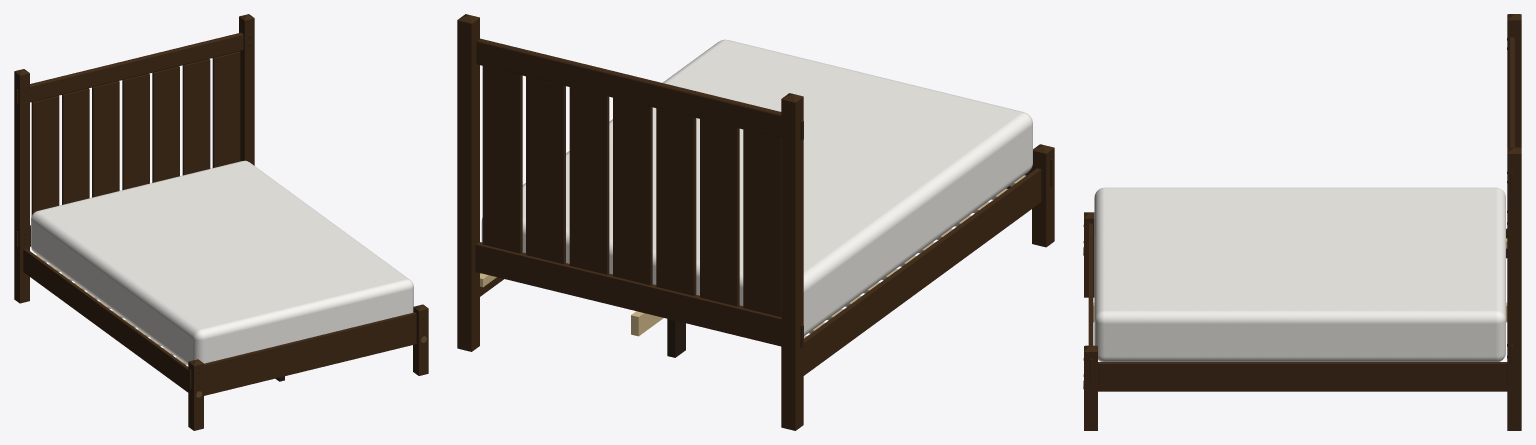
Rendered from bed-frame-bare.dae.
3 views of the same model, side by side, from view 1: azimuth 30°, elevation 25°; view 2: azimuth 150°, elevation 25°; view 3: azimuth 270°, elevation 25° (orthographic). The views are drawn at different scales.
Visible parts, largest first — view 1: Bed mattress, Bed foot rail, Bed side rail L, Bed headboard rail top, Bed headboard post L, Bed headboard slat 1, Bed headboard slat 6, Bed headboard slat 7, Bed headboard slat 5, Bed headboard slat 2, Bed headboard slat 4, Bed headboard slat 3 (+3 smaller); view 2: Bed mattress, Bed headboard rail bottom, Bed side rail L, Bed headboard rail top, Bed headboard post L, Bed headboard post R, Bed headboard slat 3, Bed headboard slat 7, Bed headboard slat 5, Bed headboard slat 4, Bed headboard slat 6, Bed headboard slat 2 (+3 smaller); view 3: Bed mattress, Bed side rail R, Bed headboard post R, Bed headboard post L, Bed foot leg R, Bed headboard rail top, Bed foot rail, Bed foot leg L.
Part boxes in pixels (x1,y1,x2,y2): Bed mattress: (31,160,413,364); Bed foot rail: (204,312,416,395); Bed side rail L: (23,248,188,392); Bed headboard rail top: (30,32,243,102); Bed headboard post L: (14,72,29,303); Bed headboard slat 1: (31,95,59,215); Bed headboard slat 6: (182,59,210,175); Bed headboard slat 7: (212,51,240,167); Bed headboard slat 5: (152,66,179,182); Bed headboard slat 2: (62,88,89,204); Bed headboard slat 4: (122,73,149,190); Bed headboard slat 3: (92,81,119,197); Bed mattress: (481,39,1032,335); Bed headboard rail bottom: (475,242,781,346); Bed side rail L: (803,168,1041,375); Bed headboard rail top: (476,38,781,138); Bed headboard post L: (781,97,803,430); Bed headboard post R: (457,18,479,351); Bed headboard slat 3: (656,108,696,295); Bed headboard slat 7: (482,66,522,253); Bed headboard slat 5: (569,87,609,274); Bed headboard slat 4: (613,97,652,285); Bed headboard slat 6: (526,76,565,263); Bed headboard slat 2: (700,119,739,306); Bed mattress: (1094,187,1505,361); Bed side rail R: (1098,362,1507,391); Bed headboard post R: (1507,153,1521,430); Bed headboard post L: (1507,20,1521,147); Bed foot leg R: (1084,352,1097,430); Bed headboard rail top: (1508,37,1514,147); Bed foot rail: (1088,223,1093,345); Bed foot leg L: (1084,218,1094,297).
Bounding box in the file's own units: 64.88 × 85.14 × 60.12.
9 materials, 1 textured.
